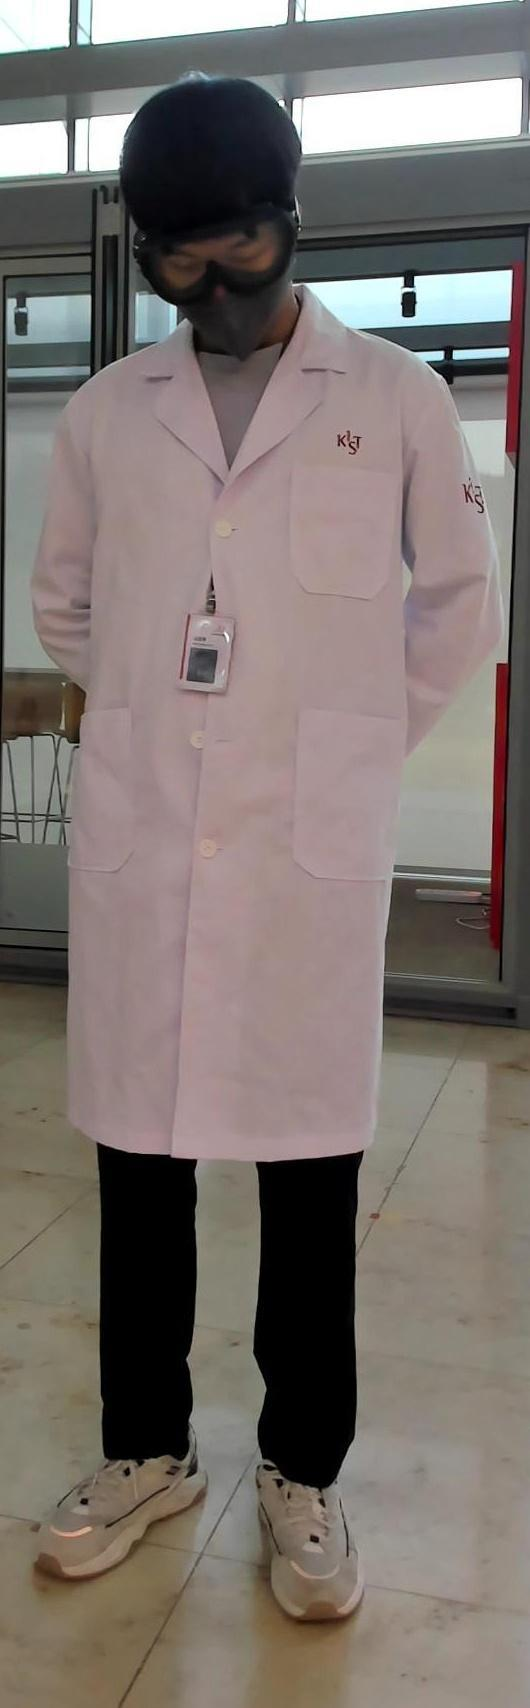lab_coat: (32, 352, 520, 1159)
